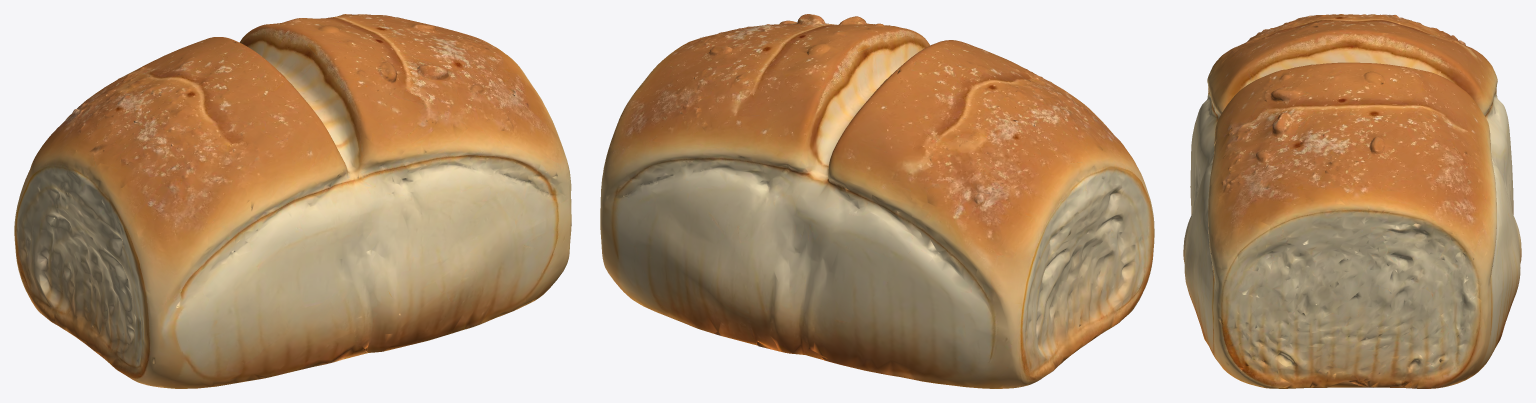
Rendered from bread-loaf.glb.
3 views of the same model, side by side, from view 1: azimuth 30°, elevation 25°; view 2: azimuth 150°, elevation 25°; view 3: azimuth 270°, elevation 25° (orthographic). The views are drawn at different scales.
Visible parts, largest first — view 1: Mesh_0; view 2: Mesh_0; view 3: Mesh_0.
Part boxes in pixels (x1,y1,x2,y2): Mesh_0: (14, 14, 571, 388); Mesh_0: (600, 14, 1154, 388); Mesh_0: (1183, 14, 1521, 388).
Bounding box in the file's own units: 0.1238 × 0.07 × 0.0892.
Materials: 1 (1 with a texture image).
